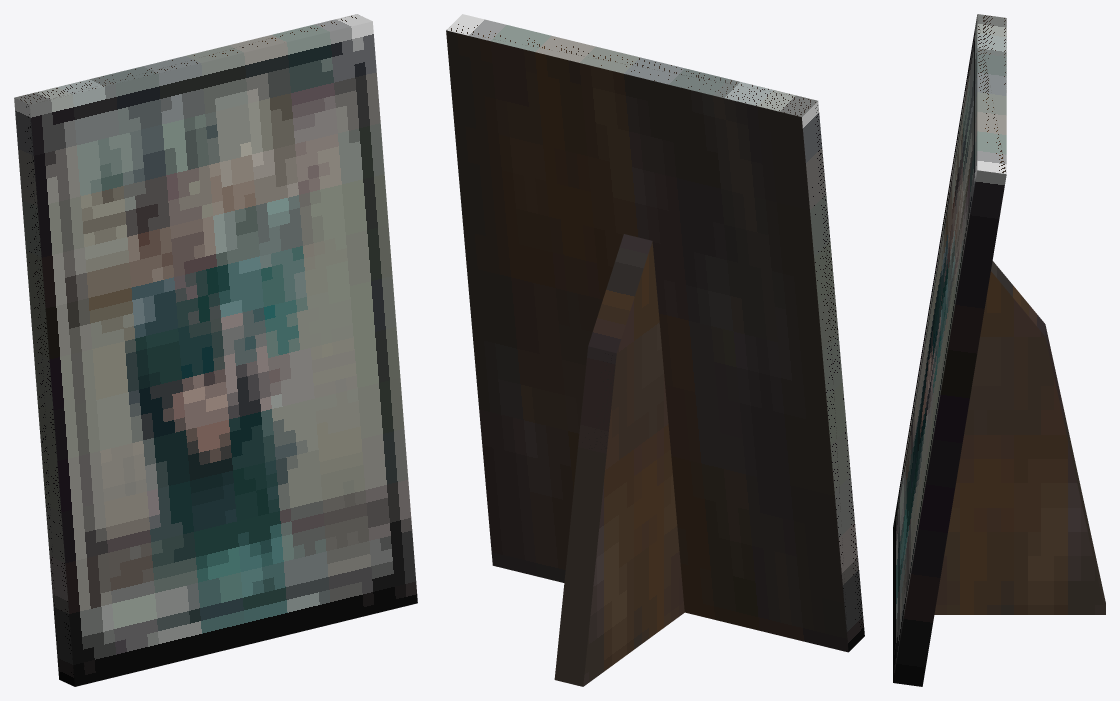
File: smallphoto1.fbx
3 renders of one model, left to right at view 1: azimuth 30°, elevation 25°; view 2: azimuth 150°, elevation 25°; view 3: azimuth 270°, elevation 25°, orthographic. The views are drawn at different scales.
Parts seen in each view (by area): view 1: mesh_0; view 2: mesh_0; view 3: mesh_0.
Boxes of the visible parts, left/top/right/bottom form: mesh_0: left=14, top=14, right=417, bottom=686; mesh_0: left=446, top=14, right=864, bottom=686; mesh_0: left=893, top=14, right=1105, bottom=686.
Bounding box in the file's own units: 21.11 × 32.54 × 12.14.
1 material, 1 textured.
